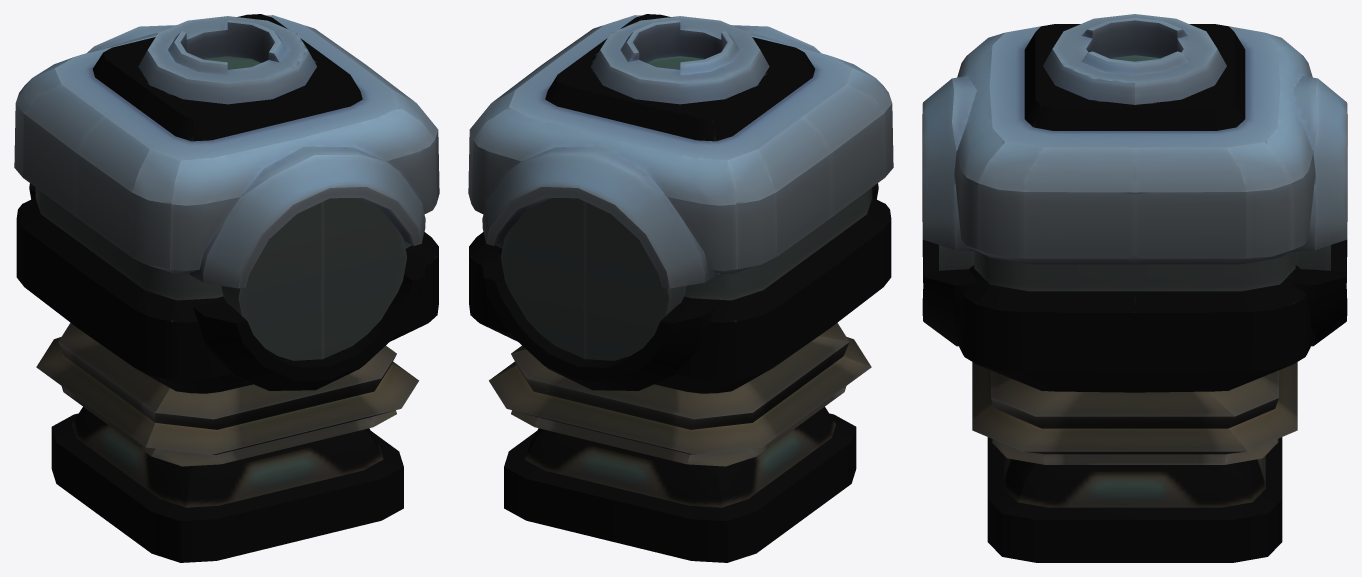
Rendered from obj_interactive_pipepump_pose0.fbx.
3 views of the same model, side by side, from view 1: azimuth 30°, elevation 25°; view 2: azimuth 150°, elevation 25°; view 3: azimuth 270°, elevation 25° (orthographic). The views are drawn at different scales.
Parts seen in each view (by area): view 1: obj_interactive_pump; view 2: obj_interactive_pump; view 3: obj_interactive_pump.
Part boxes in pixels (x1,y1,x2,y2): obj_interactive_pump: (14,14,439,562); obj_interactive_pump: (468,14,893,562); obj_interactive_pump: (922,14,1347,562).
Size of the model in its own units: 2.44 by 3.44 by 2.89.
